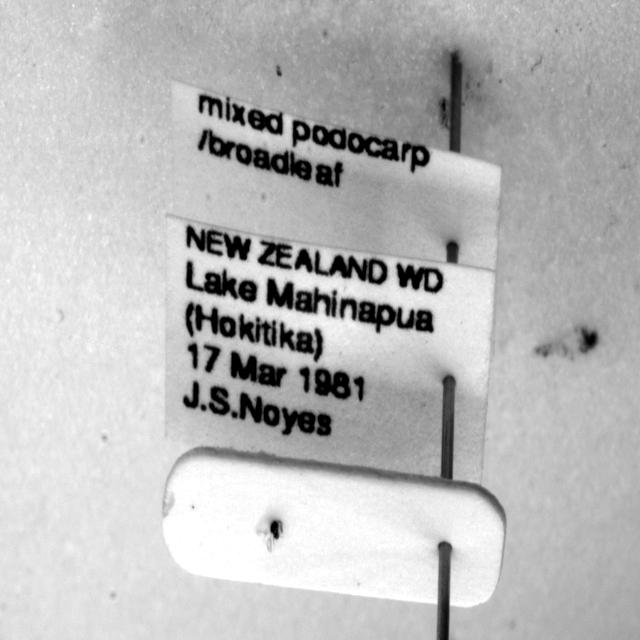typed_label: (166, 216, 495, 482), (172, 81, 501, 270)
